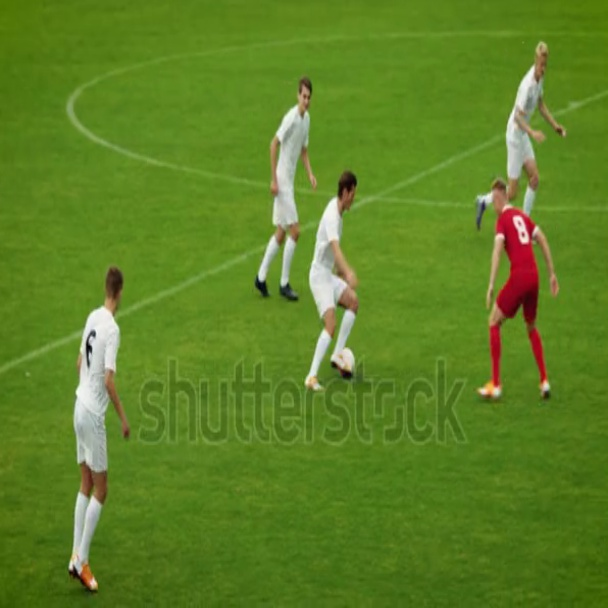ball: (340, 345, 355, 379)
